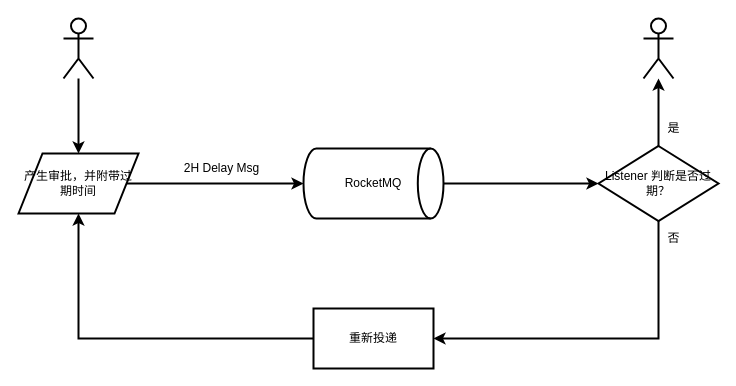
Image size: 736x386. Some labels were removed from this diagram. The centre of each missing label's shape, as x and y in pixels:
Applicant: [78,48]
Approver: [658,48]
